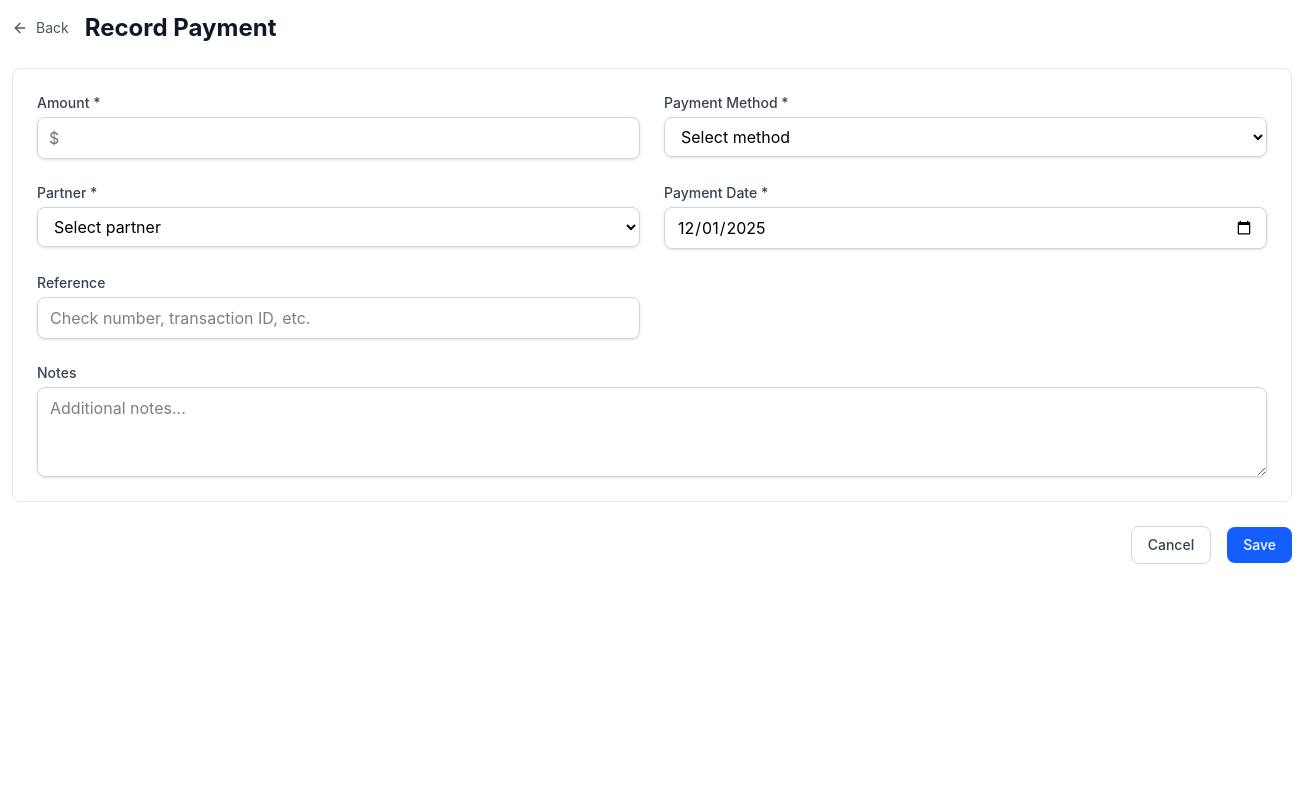
Treasury Management › PaymentForm › shows validation errors for required fields
What coordinates should you click on to do the following:
click the button "Save"
I would click on:
 (1260, 545)
Its box is [1227,527,1292,563].
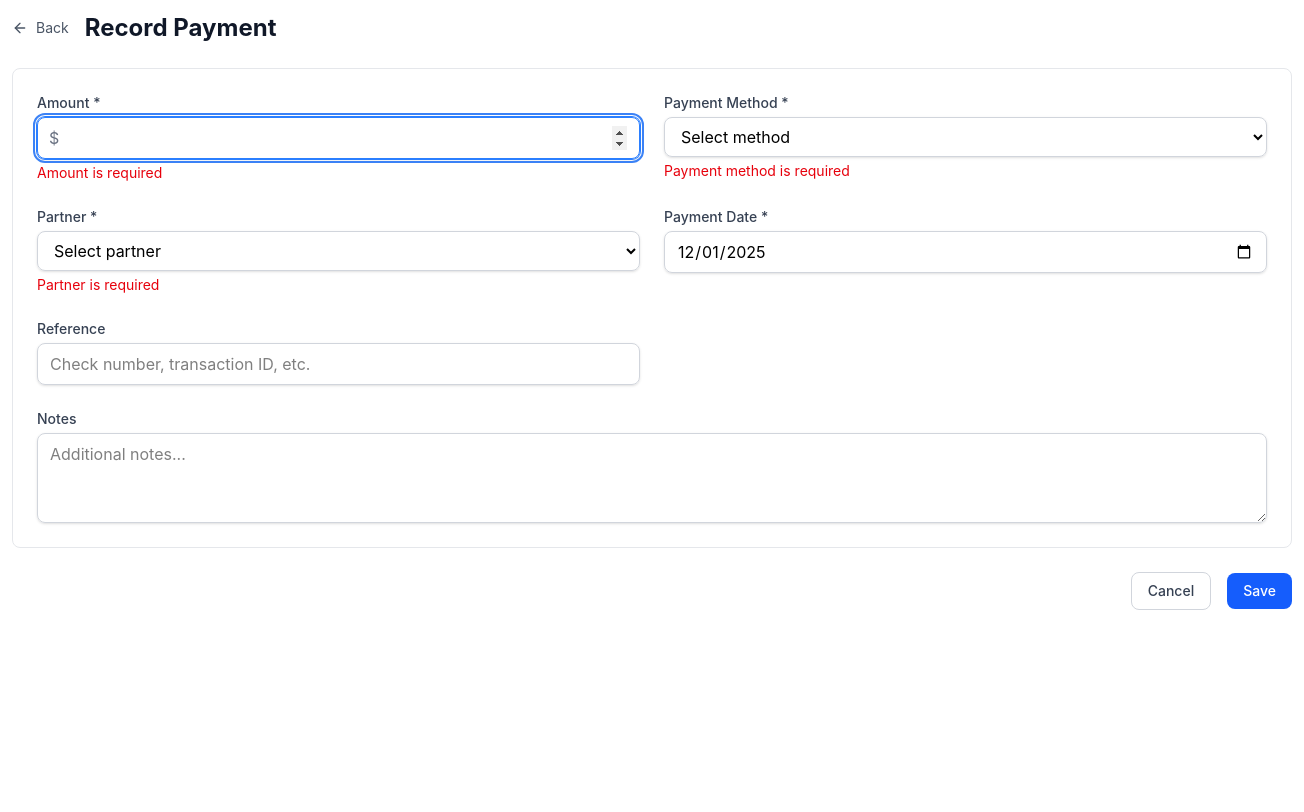
Check: the text "Amount is required" is shown, box [37,164,162,181]
